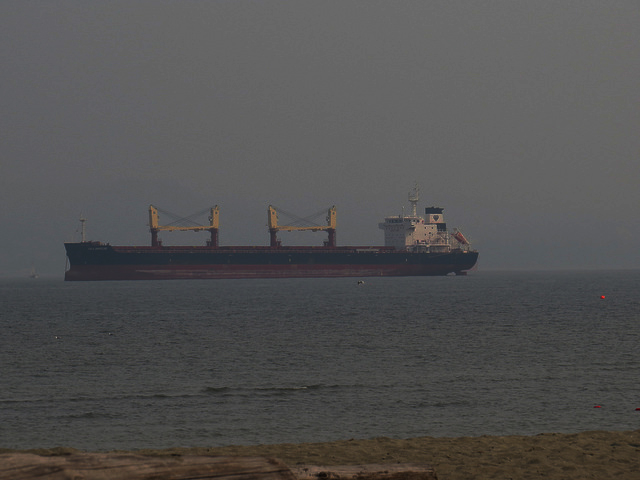bulk carrier: (61, 191, 485, 280)
